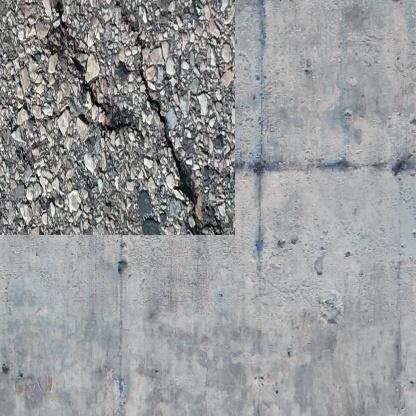Cracks: (109, 0, 207, 217), (40, 0, 135, 133)
